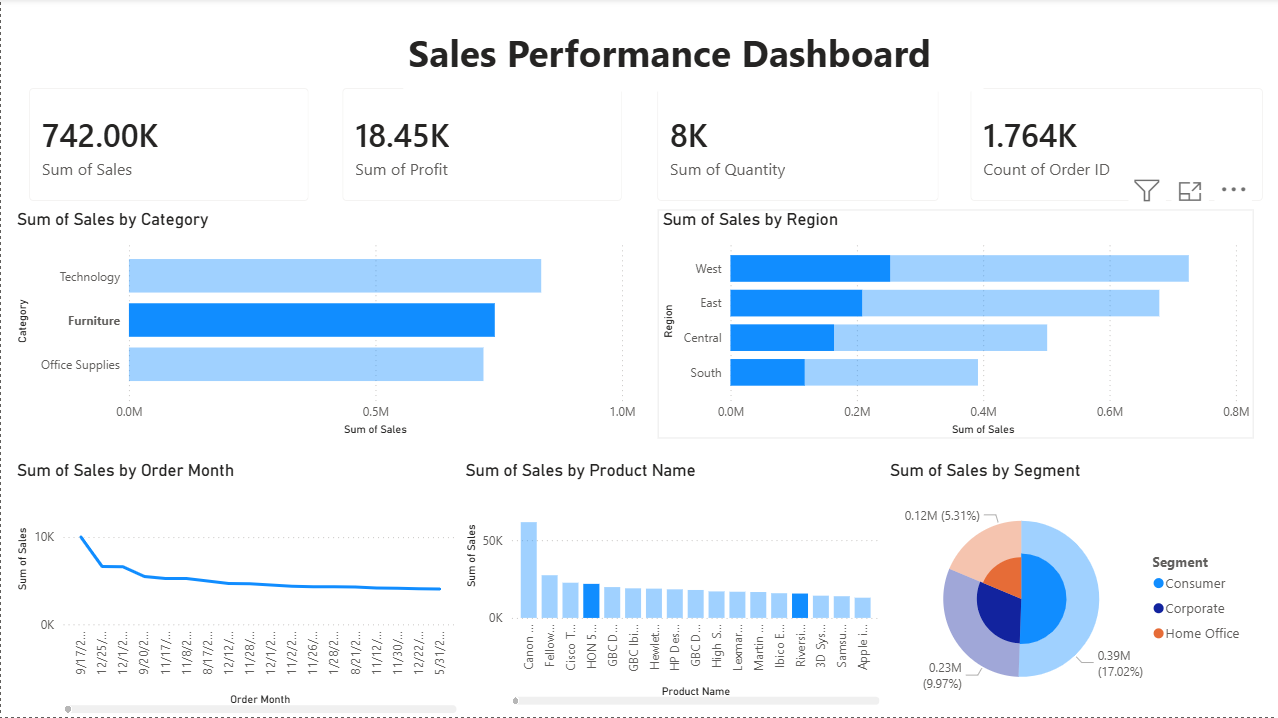

What the dashboard file says about the page in this screenshot:
{"tool":"powerbi","page":{"name":"Page 1","canvas":[1280,720],"ordinal":0},"visuals":[{"type":"cardVisual","fields":{"Data":["Sum(superstore_cleaned.Sales)"]},"box":[10.6,74,314.9,147.9],"z":0},{"type":"cardVisual","fields":{"Data":["Sum(superstore_cleaned.Profit)"]},"box":[325.4,74,314.9,147.9],"z":1000},{"type":"cardVisual","fields":{"Data":["Sum(superstore_cleaned.Quantity)"]},"box":[640.3,74,317,147.9],"z":2000},{"type":"cardVisual","fields":{"Data":["Count(superstore_cleaned.Order ID)"]},"box":[953.1,74,327.6,147.9],"z":3000},{"type":"clusteredBarChart","fields":{"Category":["superstore_cleaned.Region"],"Y":["Sum(superstore_cleaned.Sales)"]},"box":[657.2,211.3,598.1,230.3],"z":4000},{"type":"lineChart","fields":{"Y":["Sum(superstore_cleaned.Sales)"],"Category":["superstore_cleaned.Order Date"]},"box":[10.6,462.8,450.1,257.8],"z":5000},{"type":"pieChart","fields":{"Category":["superstore_cleaned.Segment"],"Y":["Sum(superstore_cleaned.Sales)"]},"box":[885.5,462.8,369.8,257.8],"z":6000},{"type":"clusteredColumnChart","fields":{"Category":["superstore_cleaned.Product Name"],"Y":["Sum(superstore_cleaned.Sales)"]},"box":[460.7,462.8,424.8,249.4],"z":7000},{"type":"textbox","box":[99.3,359.3,194.4,40.2],"z":9000},{"type":"clusteredBarChart","fields":{"Category":["superstore_cleaned.Category"],"Y":["Sum(superstore_cleaned.Sales)"]},"box":[10.6,211.3,629.8,230.3],"z":9001},{"type":"textbox","box":[403.6,23.2,581.2,69.7],"z":9002}]}

Visuals, with their boxes in screenshot pixels (x1, y1, x2, y2), scaled from the page's 1280x720 canvas onto the 1278x718 screenshot:
cardVisual - Sum(superstore_cleaned.Sales): (x1=11, y1=74, x2=325, y2=221)
cardVisual - Sum(superstore_cleaned.Profit): (x1=325, y1=74, x2=639, y2=221)
cardVisual - Sum(superstore_cleaned.Quantity): (x1=639, y1=74, x2=956, y2=221)
cardVisual - Count(superstore_cleaned.Order ID): (x1=952, y1=74, x2=1277, y2=221)
clusteredBarChart - superstore_cleaned.Region x Sum(superstore_cleaned.Sales): (x1=656, y1=211, x2=1253, y2=440)
lineChart - Sum(superstore_cleaned.Sales) x superstore_cleaned.Order Date: (x1=11, y1=462, x2=460, y2=717)
pieChart - superstore_cleaned.Segment x Sum(superstore_cleaned.Sales): (x1=884, y1=462, x2=1253, y2=717)
clusteredColumnChart - superstore_cleaned.Product Name x Sum(superstore_cleaned.Sales): (x1=460, y1=462, x2=884, y2=710)
textbox: (x1=99, y1=358, x2=293, y2=398)
clusteredBarChart - superstore_cleaned.Category x Sum(superstore_cleaned.Sales): (x1=11, y1=211, x2=639, y2=440)
textbox: (x1=403, y1=23, x2=983, y2=93)
